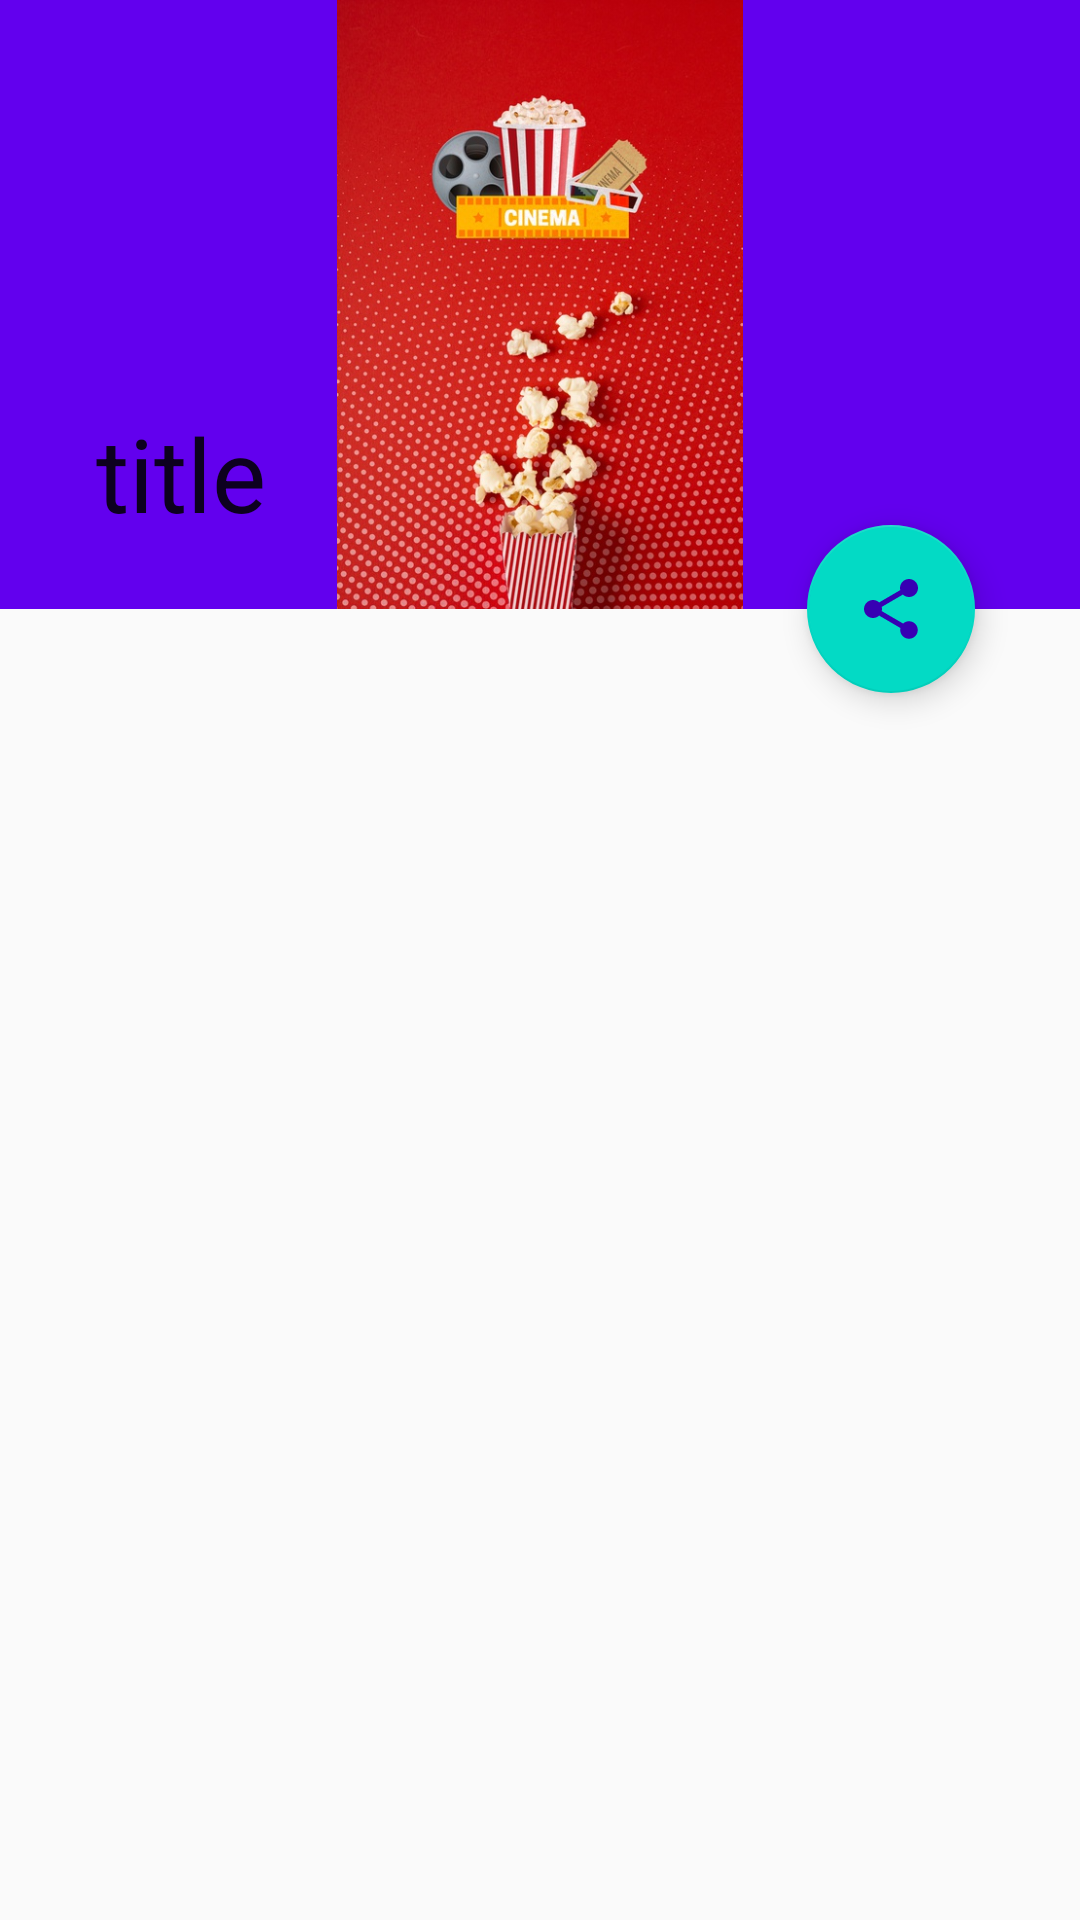

Icons on this 1080 x 1920 Android screen, each with the point to tap as (x=x, y=y):
share: (x=891, y=609)
